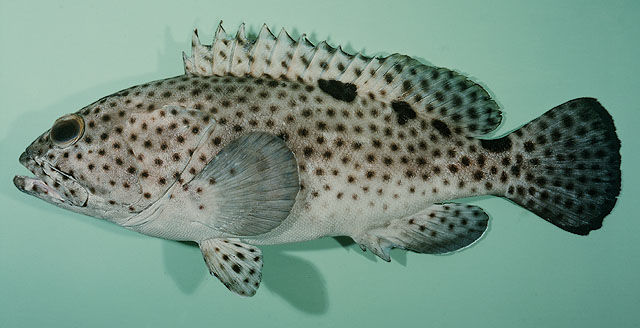fish: (13, 19, 623, 297)
